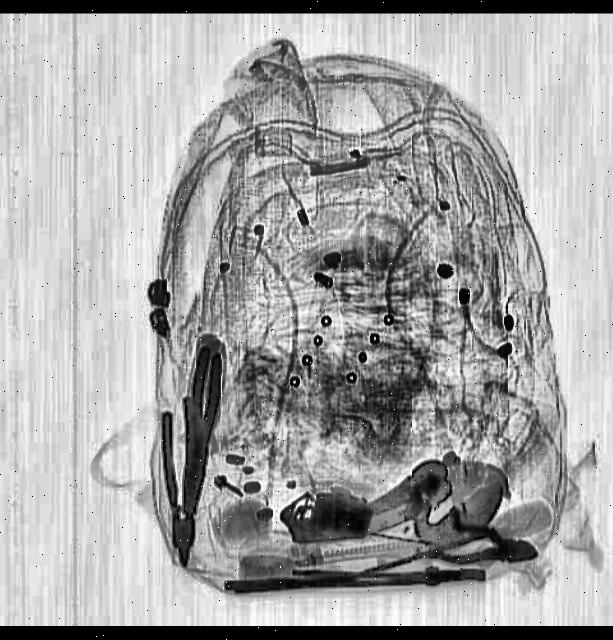Pliers: (169, 345, 224, 514), (425, 502, 542, 580)
